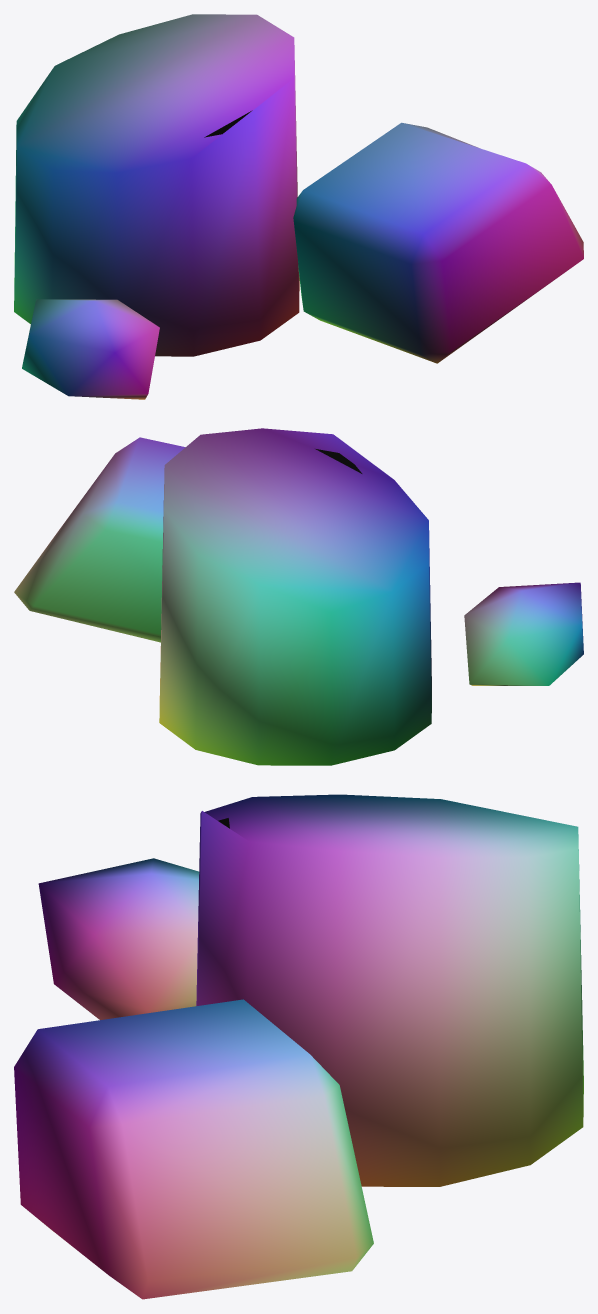
File: SM_Rock_March_BrokenStone_B.fbx
The picture shows the model from 3 angles, top to bottom: view 1: azimuth 30°, elevation 25°; view 2: azimuth 150°, elevation 25°; view 3: azimuth 270°, elevation 25°; orthographic projection. The views are drawn at different scales.
Parts seen in each view (by area): view 1: SM_Rock_March_BrokenStone_B; view 2: SM_Rock_March_BrokenStone_B; view 3: SM_Rock_March_BrokenStone_B.
Boxes of the visible parts, box(x1,y1,x2,y2) form: SM_Rock_March_BrokenStone_B: box(14, 14, 583, 399); SM_Rock_March_BrokenStone_B: box(14, 428, 583, 765); SM_Rock_March_BrokenStone_B: box(14, 794, 583, 1299).
Bounding box in the file's own units: 0.7171 × 0.3222 × 0.4695.
